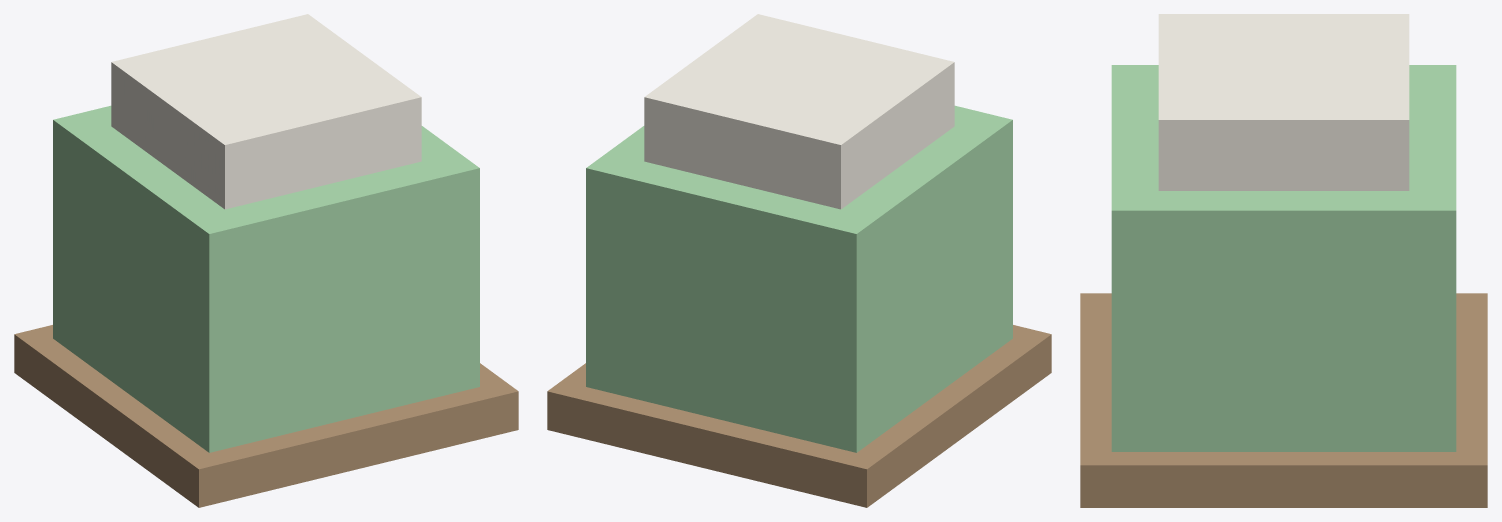
File: Item_DS_Food_HerbTea.glb
3 views of the same model, side by side, from view 1: azimuth 30°, elevation 25°; view 2: azimuth 150°, elevation 25°; view 3: azimuth 270°, elevation 25° (orthographic). The views are drawn at different scales.
Visible parts, largest first — view 1: Item_DS_Food_HerbTea; view 2: Item_DS_Food_HerbTea; view 3: Item_DS_Food_HerbTea.
Part boxes in pixels (x1,y1,x2,y2): Item_DS_Food_HerbTea: [14, 14, 518, 507]; Item_DS_Food_HerbTea: [547, 14, 1051, 507]; Item_DS_Food_HerbTea: [1080, 14, 1487, 507].
Size of the model in its own units: 0.26 by 0.25 by 0.26.
